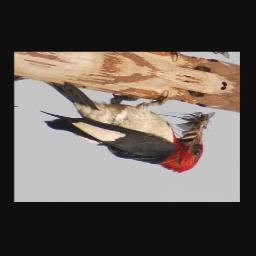Woodpecker: (29, 69, 217, 177)
